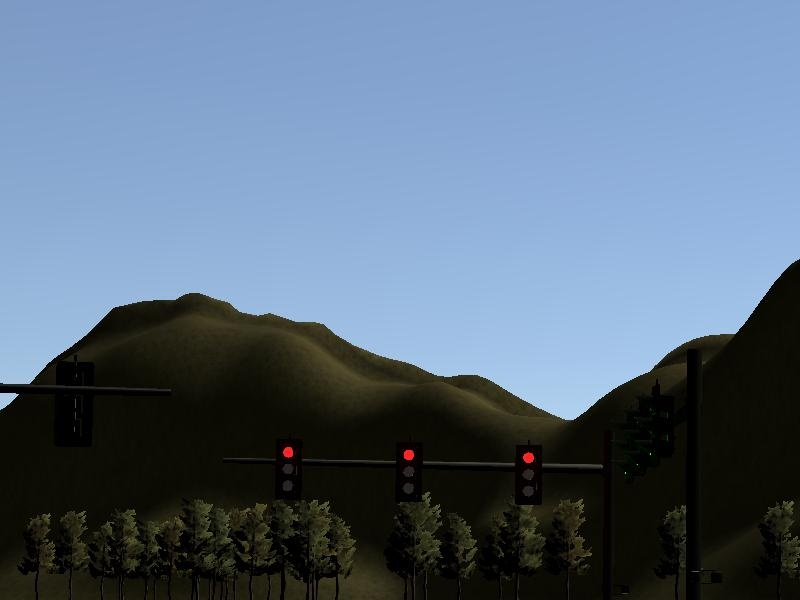RED: (274, 439, 302, 498), (395, 442, 423, 501), (515, 446, 543, 505)
